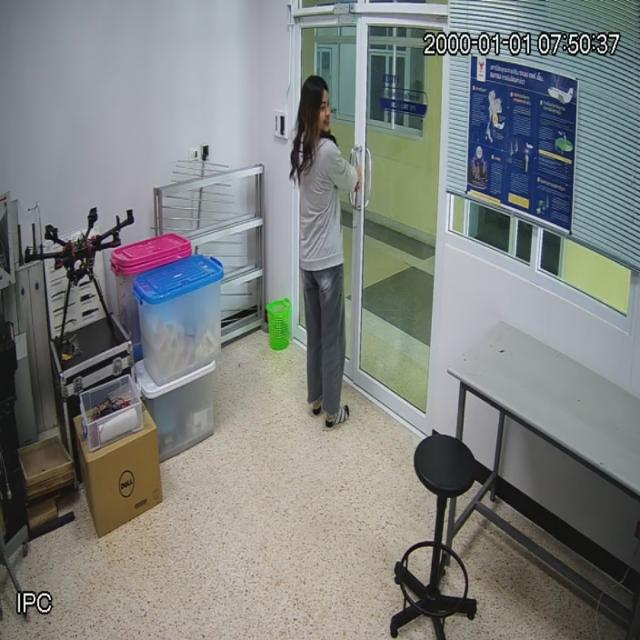normal: (292, 69, 362, 434)
